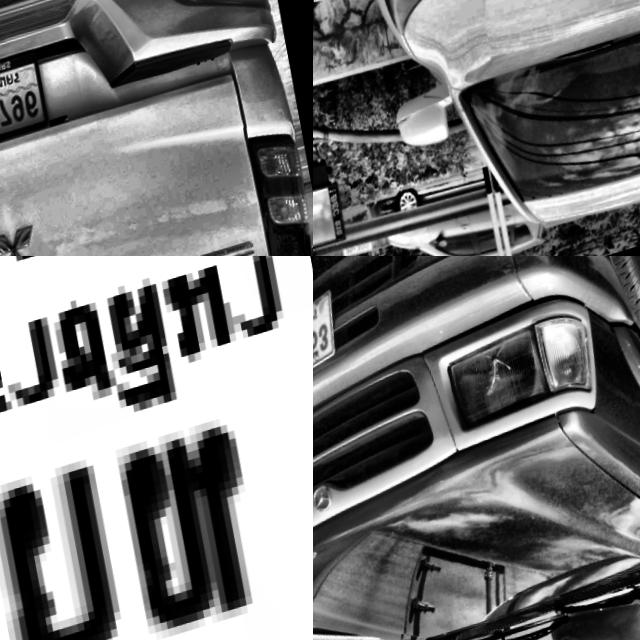license-plate: (0, 256, 313, 640), (313, 277, 359, 418), (0, 54, 52, 170)
